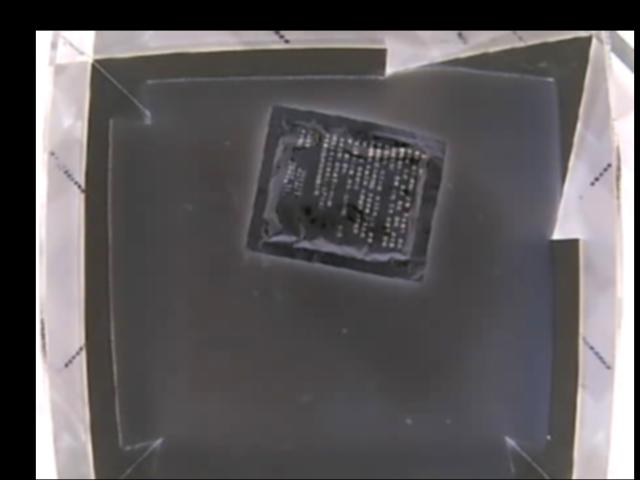Medicine: (246, 104, 447, 280)
